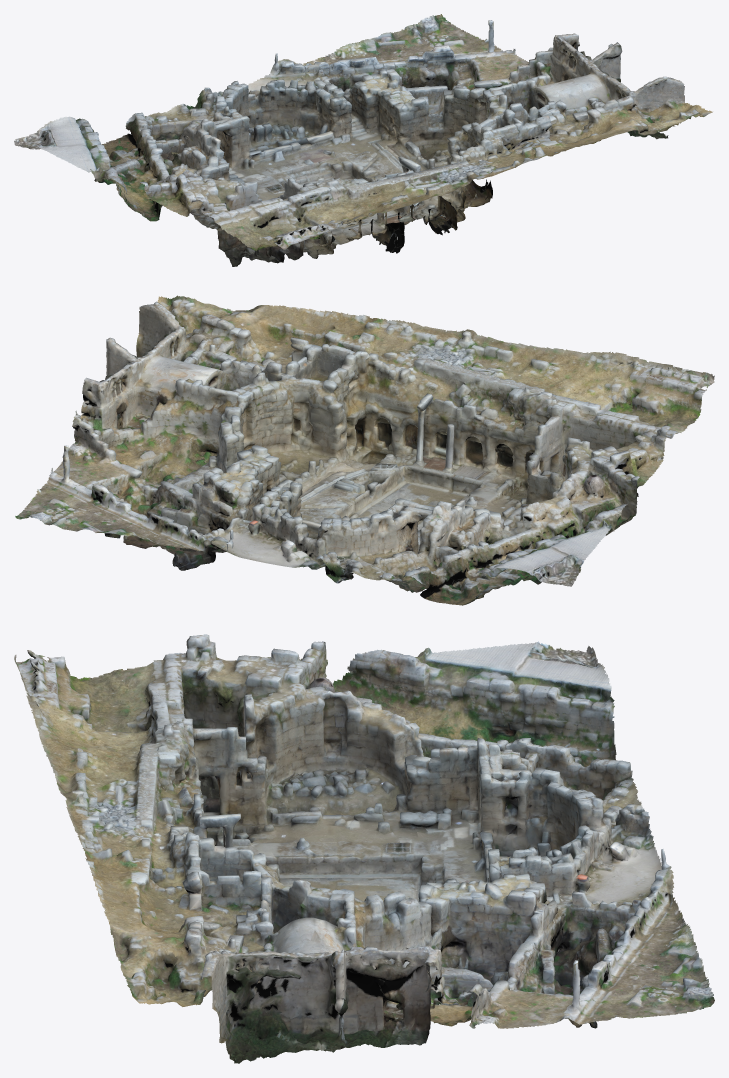
Rendered from ancient_corinth_-_peirene_fountain.glb.
3 views of the same model, one above another, from view 1: azimuth 30°, elevation 25°; view 2: azimuth 150°, elevation 25°; view 3: azimuth 270°, elevation 25° (orthographic). The views are drawn at different scales.
Parts seen in each view (by area): view 1: Object_2; view 2: Object_2; view 3: Object_2.
Boxes of the visible parts, x1,y1,x2,y2 form: Object_2: (14,14,712,266); Object_2: (15,295,714,605); Object_2: (14,634,714,1063).
Bounding box in the file's own units: 47.58 × 9.19 × 37.49.
1 material, 1 textured.
